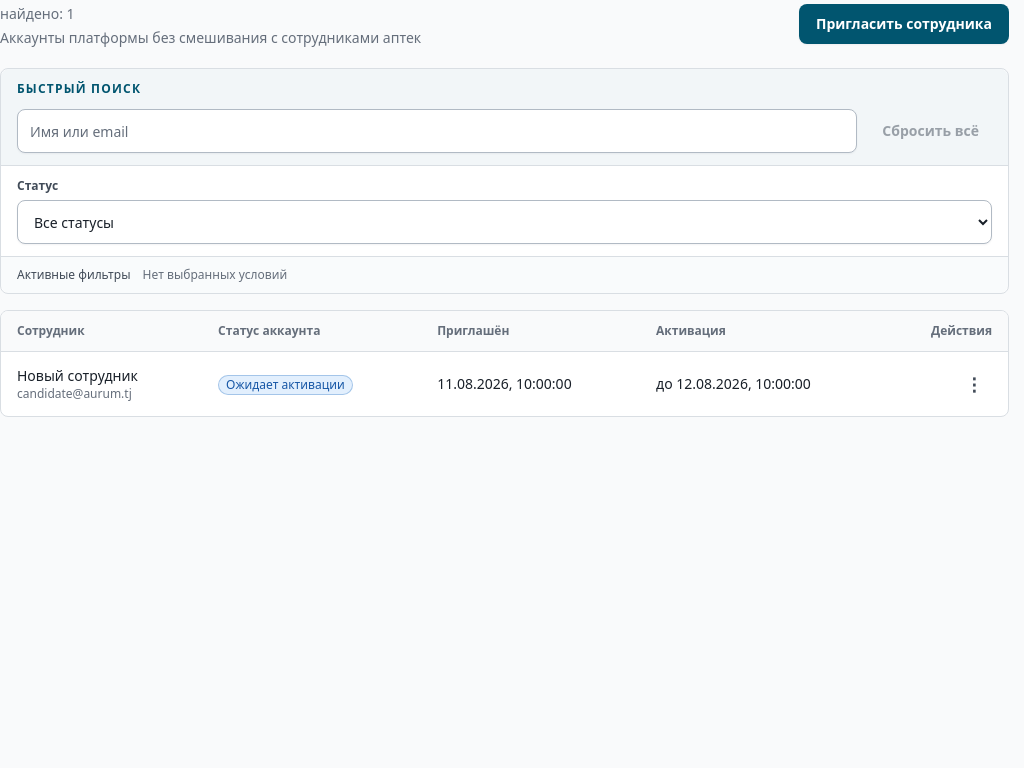
Test: PlatformAccountsPage › closes the action and refreshes the list after a version conflict
The width and height of the screenshot is (1024, 768).
Expected: the text "Новый сотрудник" is shown, [17,366,138,385]
Click the button named "Действия с аккаунтом Новый сотрудник" at (974, 384), box [956,366,992,402]
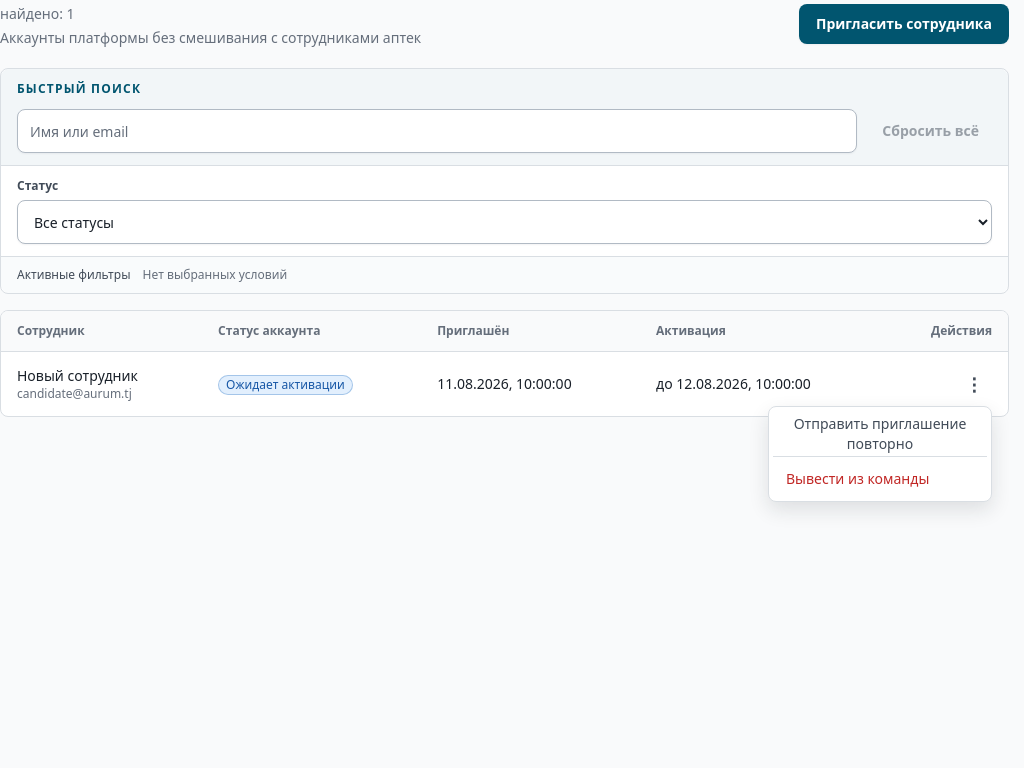
Click the menu item "Вывести из команды" at (880, 479), box [773,461,987,497]
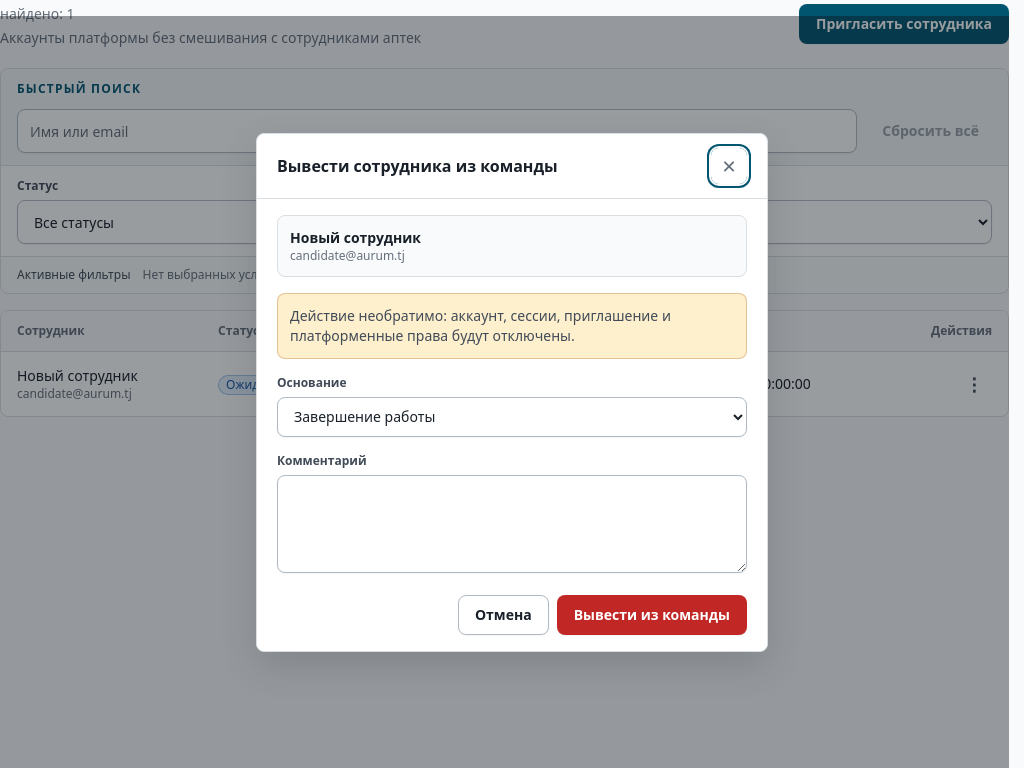
Type "Трудовые отношения завершены сегодня" into the text box labelled "Комментарий" at (512, 524), box [277,474,747,572]
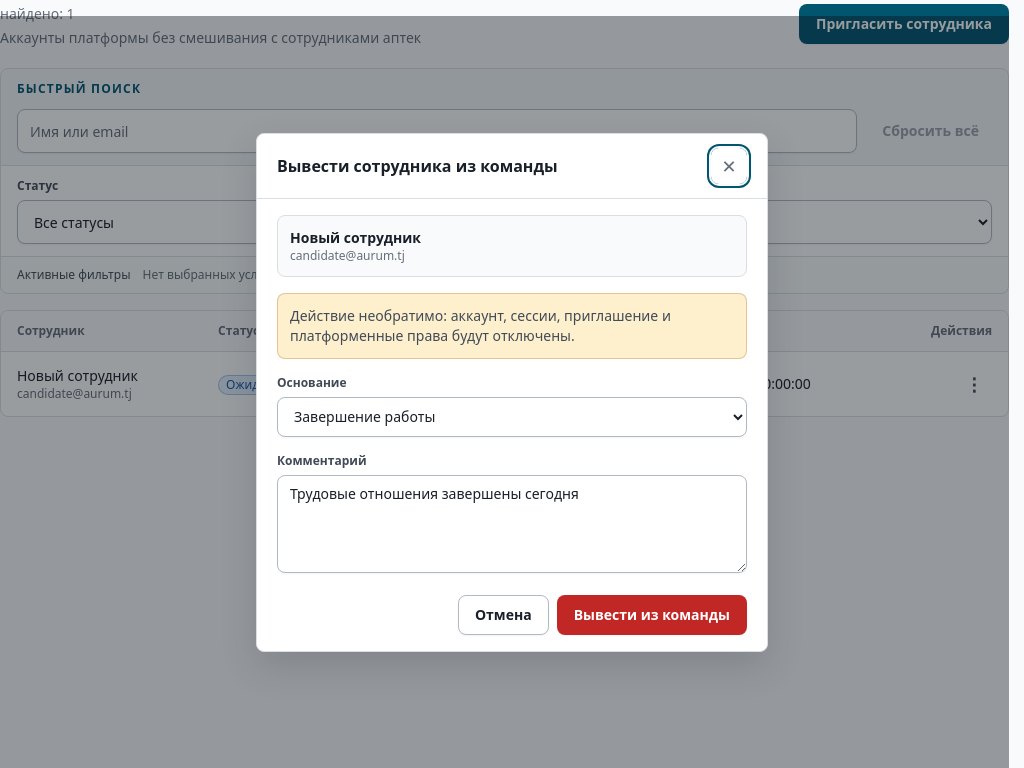
Click the button "Вывести из команды" at (652, 614), box [557,594,747,634]
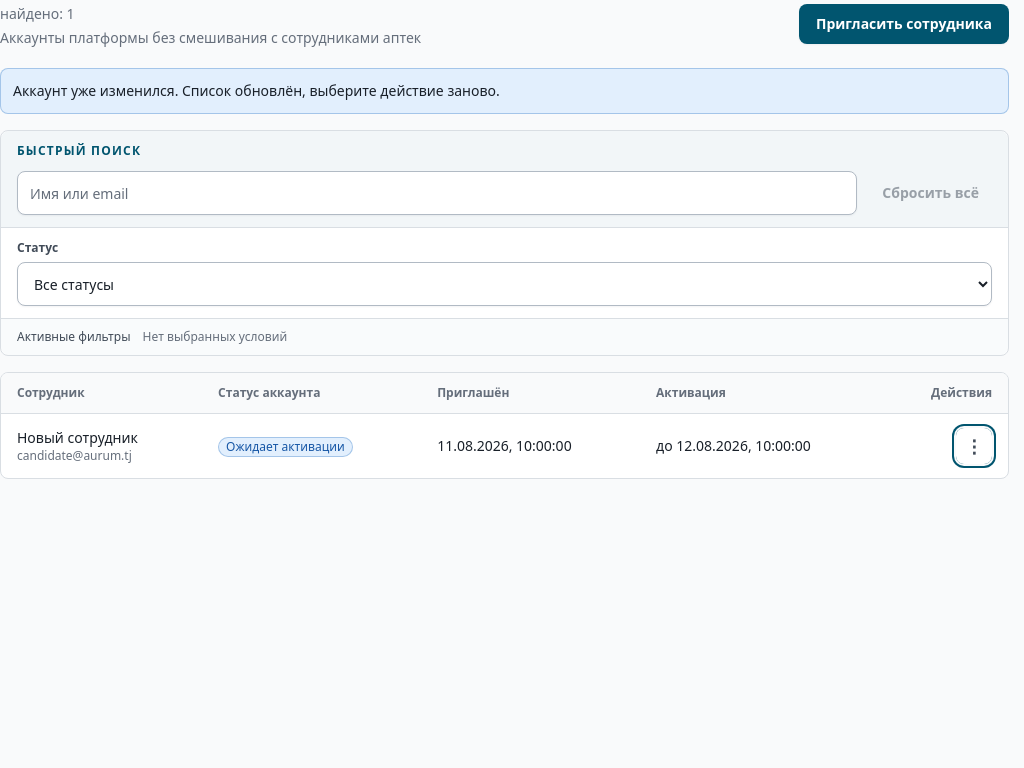
Expected: the message shows "Аккаунт уже изменился", [13,81,500,100]
Expected: the heading "Вывести сотрудника из команды" is gone
